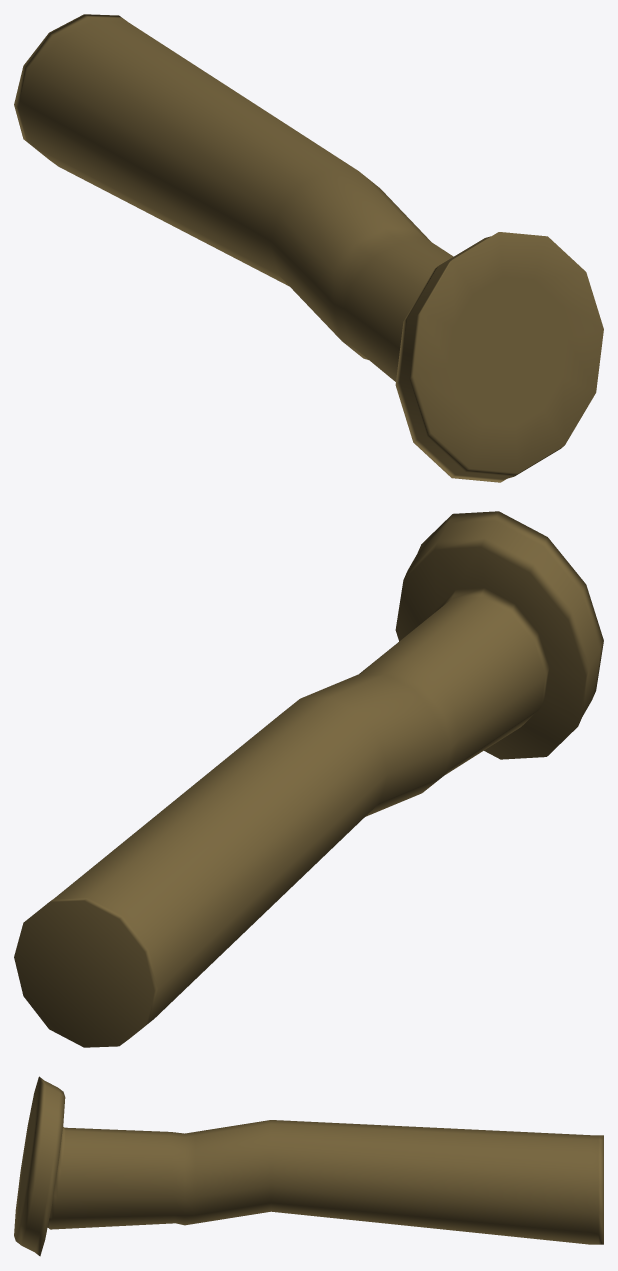
File: Kitchen_set_Kitchen_set_Kitchen_set_Props_grp_Kitchen_set_North_grp_Kitchen_set_NorthWall_grp_Kitchen_set_NailB_1.obj
3 views of the same model, one above another, from view 1: azimuth 30°, elevation 25°; view 2: azimuth 150°, elevation 25°; view 3: azimuth 270°, elevation 25° (orthographic). The views are drawn at different scales.
Parts seen in each view (by area): view 1: Kitchen_set_Nail1 NCCA_Export; view 2: Kitchen_set_Nail1 NCCA_Export; view 3: Kitchen_set_Nail1 NCCA_Export.
Boxes of the visible parts, x1,y1,x2,y2 form: Kitchen_set_Nail1 NCCA_Export: (14, 14, 603, 482); Kitchen_set_Nail1 NCCA_Export: (14, 511, 603, 1047); Kitchen_set_Nail1 NCCA_Export: (14, 1076, 603, 1256).
Size of the model in its own units: 0.253 by 0.317 by 1.
